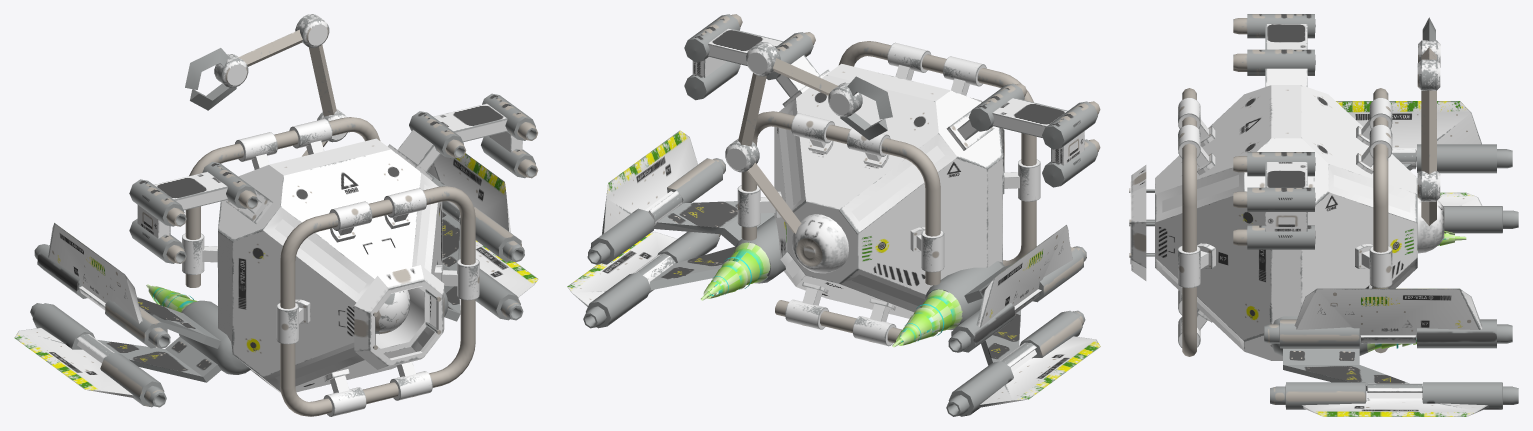
File: monas3.gltf
3 views of the same model, side by side, from view 1: azimuth 30°, elevation 25°; view 2: azimuth 150°, elevation 25°; view 3: azimuth 270°, elevation 25° (orthographic).
Visible parts, largest first — view 1: K07_Drone; view 2: K07_Drone; view 3: K07_Drone.
Boxes of the visible parts, <box> form: K07_Drone: <box>14,14,538,416</box>; K07_Drone: <box>567,14,1100,416</box>; K07_Drone: <box>1129,14,1518,416</box>.
Bounding box in the file's own units: 1.91 × 1.19 × 1.4.
Materials: 4 (4 with a texture image).
